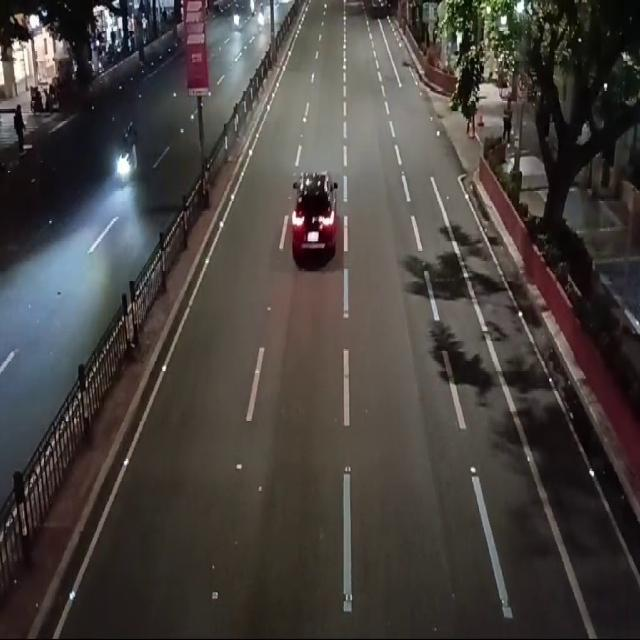car: (288, 158, 344, 272)
